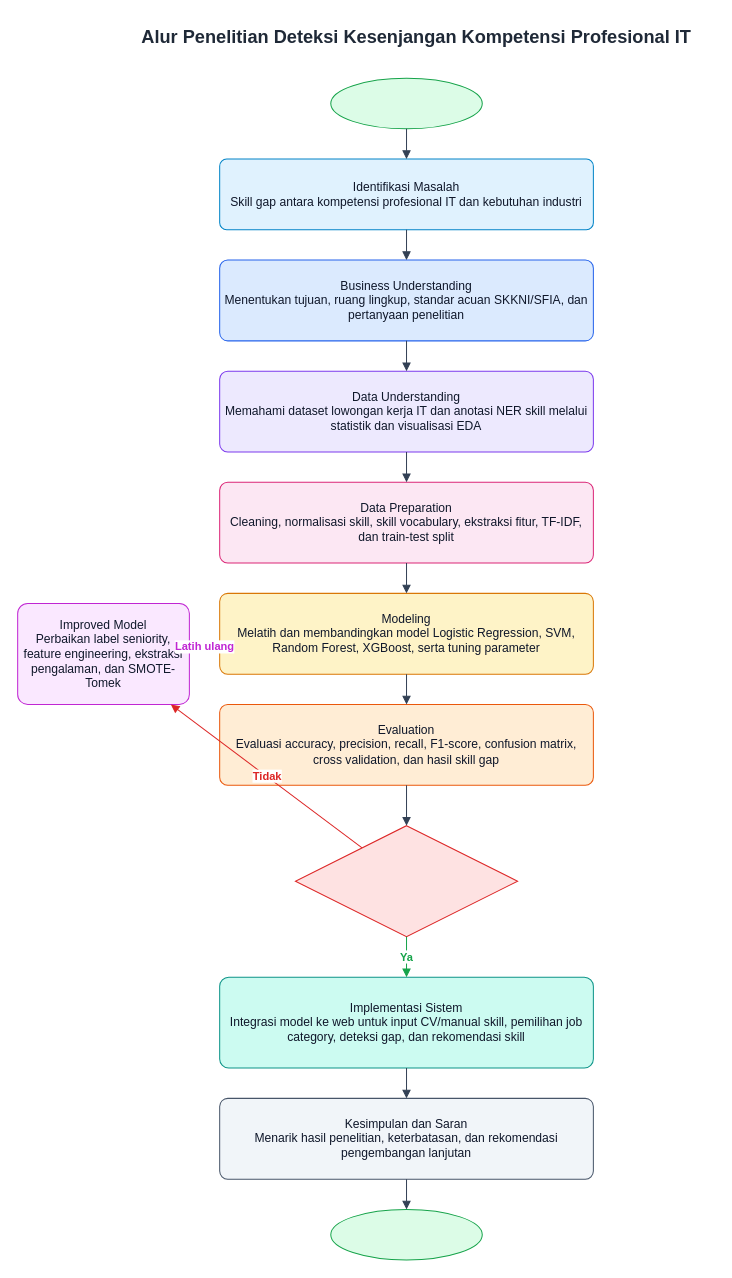
Some shapes in this 732 by 1278 pixel diagram are drawn without their labels. Here are the shapes that lost their labels. From the top down, the centre of each, then its label:
(406,103): Mulai
(406,881): Performa model sudah baik?
(406,1234): Selesai
